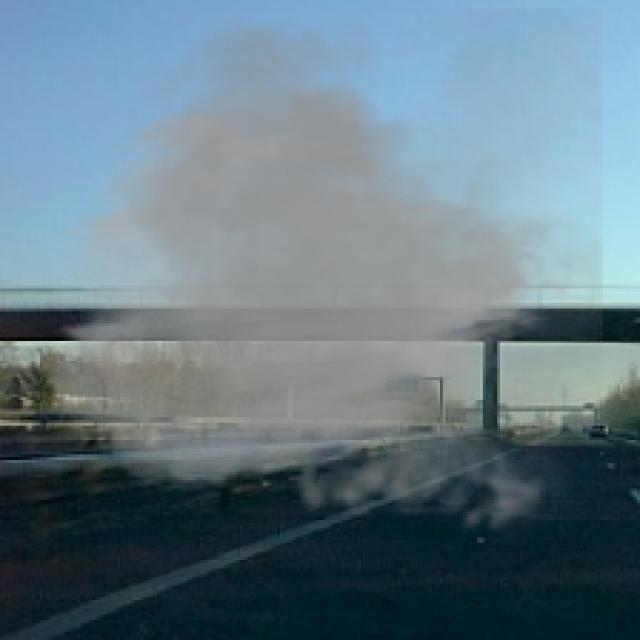smoke: (37, 9, 603, 548)
